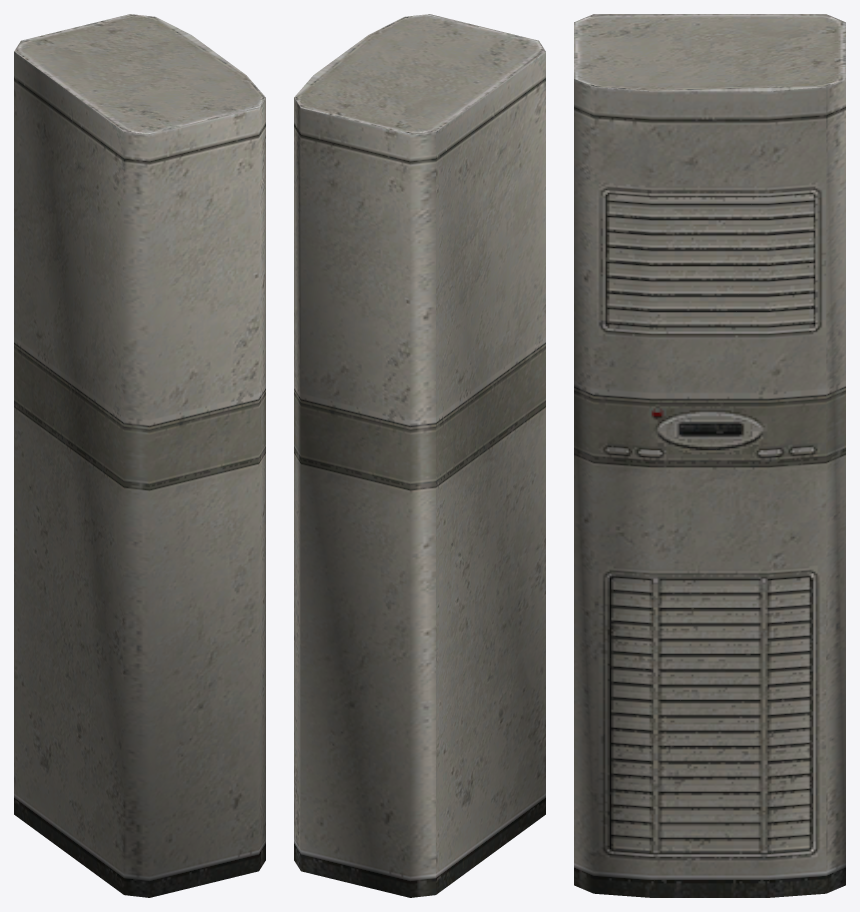
File: Prop_Lskt01.glb
3 views of the same model, side by side, from view 1: azimuth 30°, elevation 25°; view 2: azimuth 150°, elevation 25°; view 3: azimuth 270°, elevation 25° (orthographic). The views are drawn at different scales.
Parts seen in each view (by area): view 1: xiutz_lskt_01; view 2: xiutz_lskt_01; view 3: xiutz_lskt_01.
Part boxes in pixels (x1,y1,x2,y2): xiutz_lskt_01: (14, 14, 265, 897); xiutz_lskt_01: (294, 14, 545, 897); xiutz_lskt_01: (574, 14, 845, 897).
Size of the model in its own units: 0.7407 by 3.6 by 1.1.
Materials: 1 (1 with a texture image).
